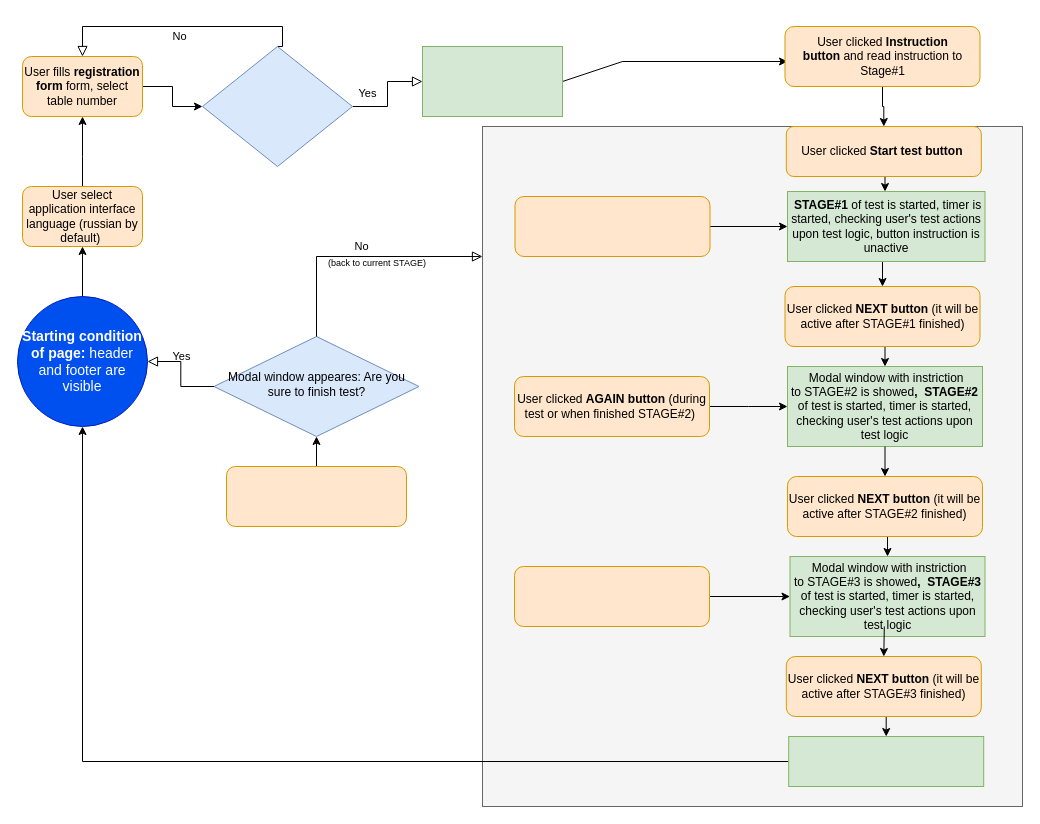
Image size: 1040x824. Some labels were removed from this diagram. Here are the shapes that lost their labels. From the top down, the centre of each, then its label:
point 492,81: Main page is Displayed: selected test table and user interface area
point 277,106: Form data is correct?
point 612,226: User clicked AGAIN button (during test or when finished STAGE#1)
point 316,496: User clicked finish test button at any time/stage of test
point 612,596: User clicked AGAIN button (during test or when finished STAGE#3)
point 886,761: Modal window with TEST RESULTS is showed
